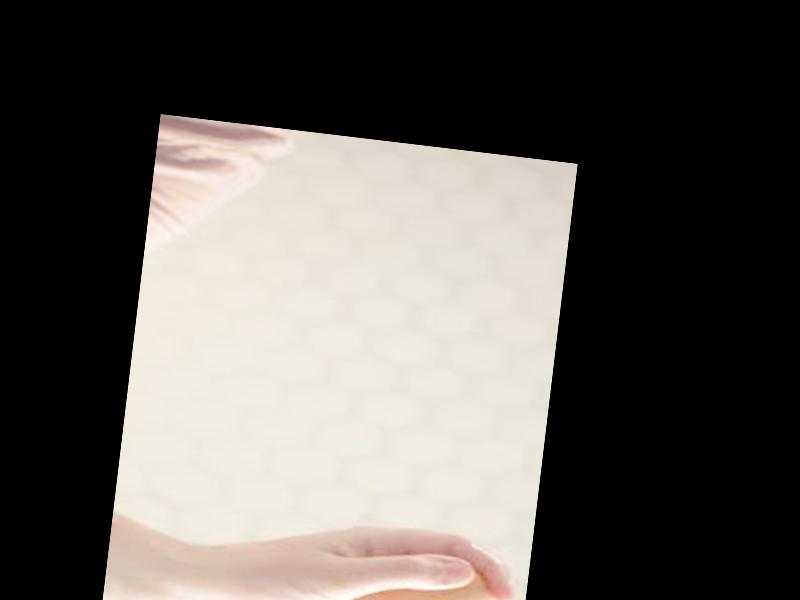Eggs: (347, 551, 496, 600)
